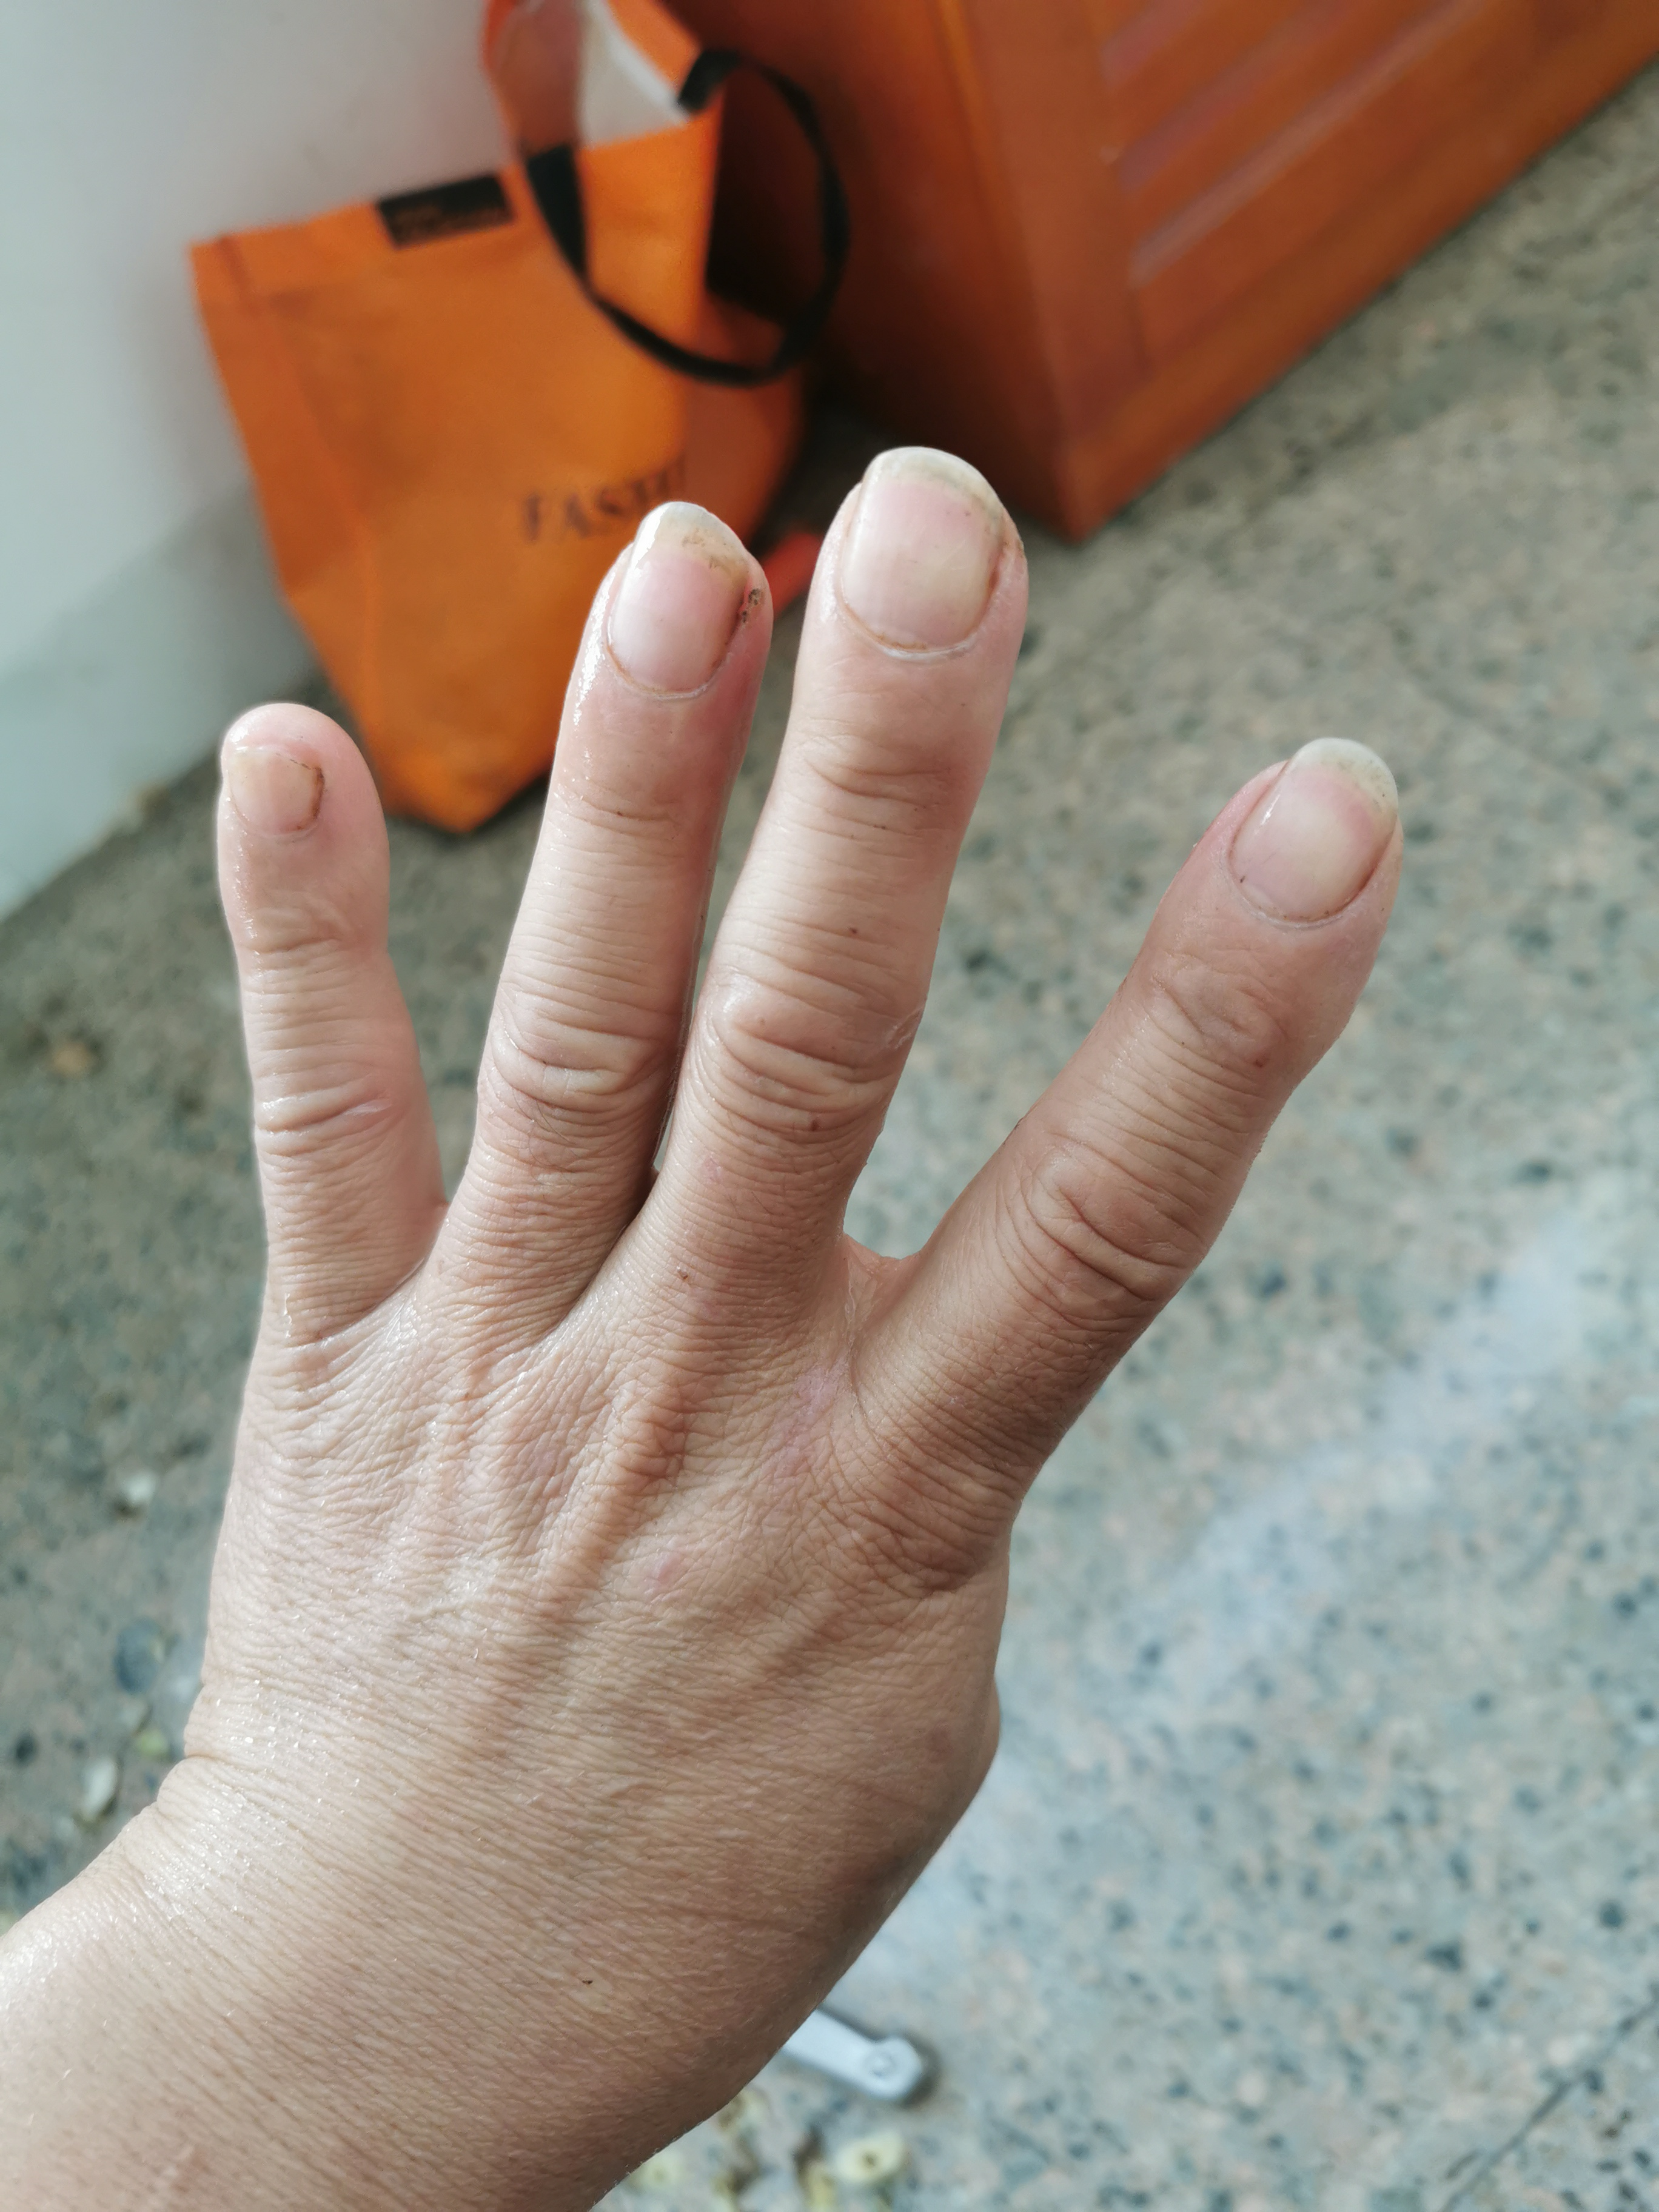right: (132, 434, 1425, 2006)
